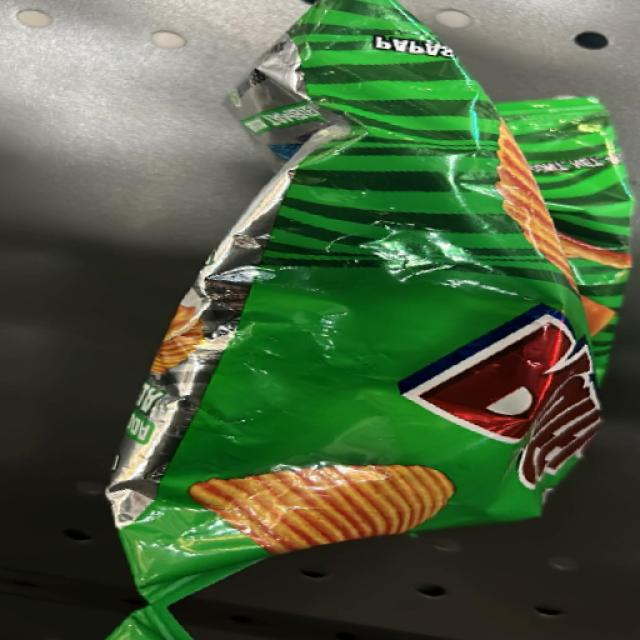rufflesQueso: (245, 47, 618, 536)
